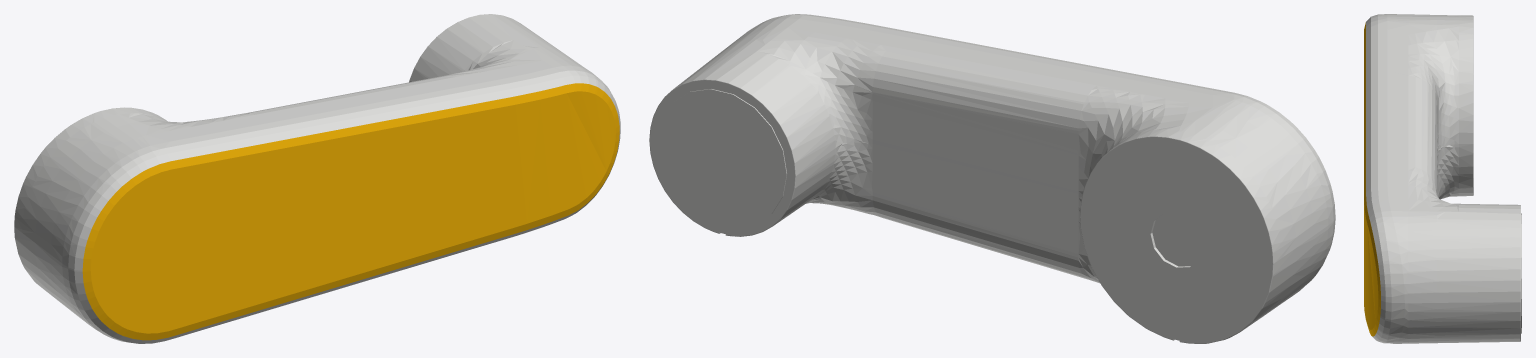
3 renders of one model, left to right at view 1: azimuth 30°, elevation 25°; view 2: azimuth 150°, elevation 25°; view 3: azimuth 270°, elevation 25°, orthographic. The views are drawn at different scales.
Visible parts, largest first — view 1: Link; view 2: Link; view 3: Link.
Boxes of the visible parts, x1,y1,x2,y2 form: Link: [14, 14, 620, 343]; Link: [649, 14, 1335, 343]; Link: [1364, 14, 1521, 343].
Size of the model in its own units: 0.1917 by 0.063 by 0.0541.
